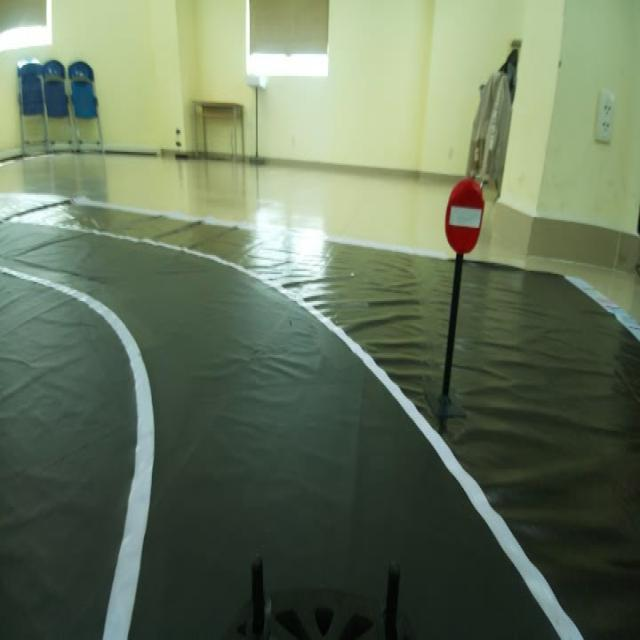no_entry: (442, 171, 488, 263)
